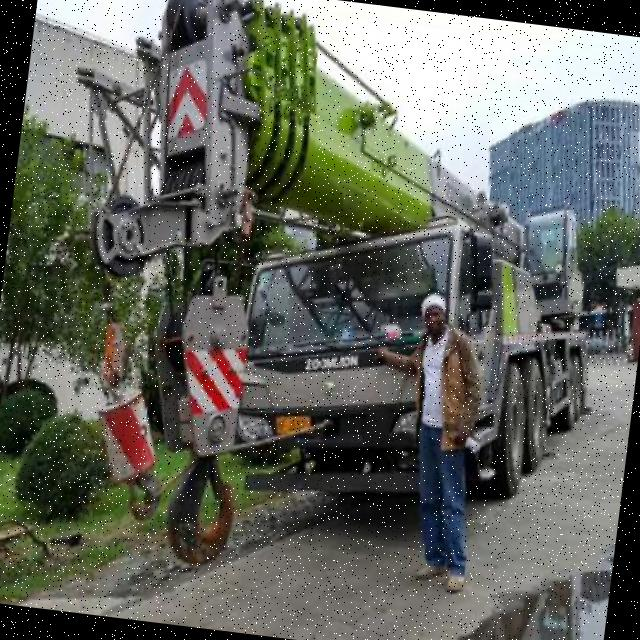Mobile Crane: (53, 0, 627, 618)
